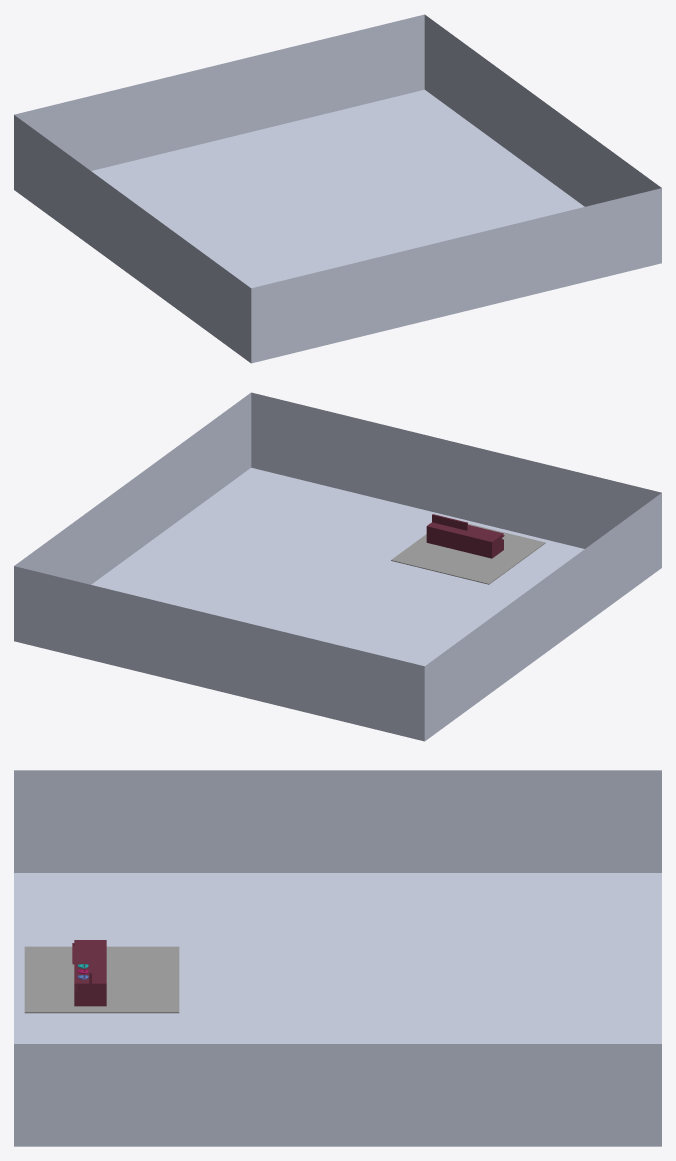
The model's file is Oficina(Prototipo).fbx.
3 views of the same model, one above another, from view 1: azimuth 30°, elevation 25°; view 2: azimuth 150°, elevation 25°; view 3: azimuth 270°, elevation 25° (orthographic). The views are drawn at different scales.
Visible parts, largest first — view 1: Oficina_Paredes; view 2: Oficina_Paredes, Oficina_Puesto; view 3: Oficina_Paredes, Oficina_Puesto.
Boxes of the visible parts, left/top/right/bottom form: Oficina_Paredes: left=14, top=14, right=661, bottom=363; Oficina_Paredes: left=14, top=392, right=661, bottom=741; Oficina_Puesto: left=391, top=514, right=545, bottom=584; Oficina_Paredes: left=14, top=770, right=661, bottom=1146; Oficina_Puesto: left=24, top=940, right=179, bottom=1013.
Size of the model in its own units: 9958 by 1742 by 9958.
